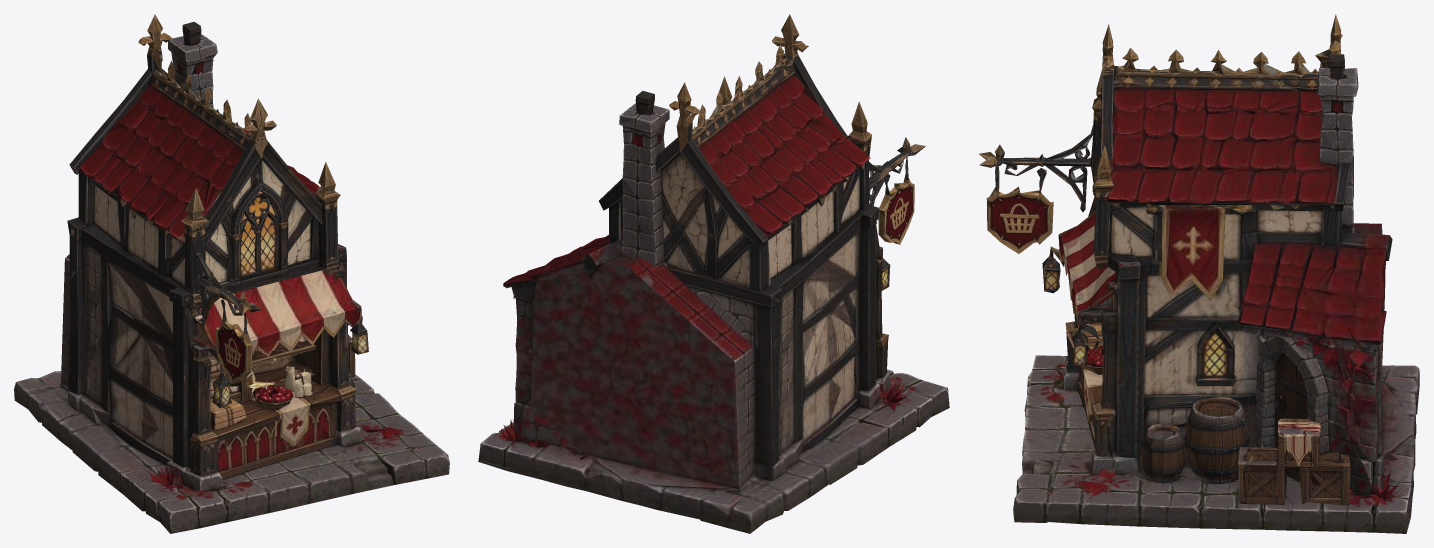
File: store.glb
3 views of the same model, side by side, from view 1: azimuth 30°, elevation 25°; view 2: azimuth 150°, elevation 25°; view 3: azimuth 270°, elevation 25° (orthographic). The views are drawn at different scales.
Bounding box in the file's own units: 1.49 × 1.9 × 1.77.
Materials: 1 (1 with a texture image).
